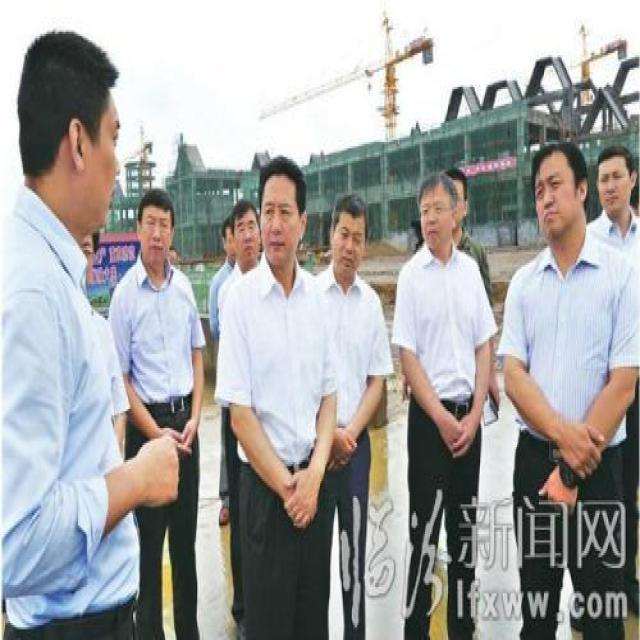no-helmet: (10, 23, 124, 242), (529, 133, 590, 248), (258, 152, 308, 274), (133, 182, 178, 272), (329, 188, 371, 280), (414, 174, 456, 254), (594, 140, 637, 218), (225, 193, 261, 273), (448, 165, 471, 233)
